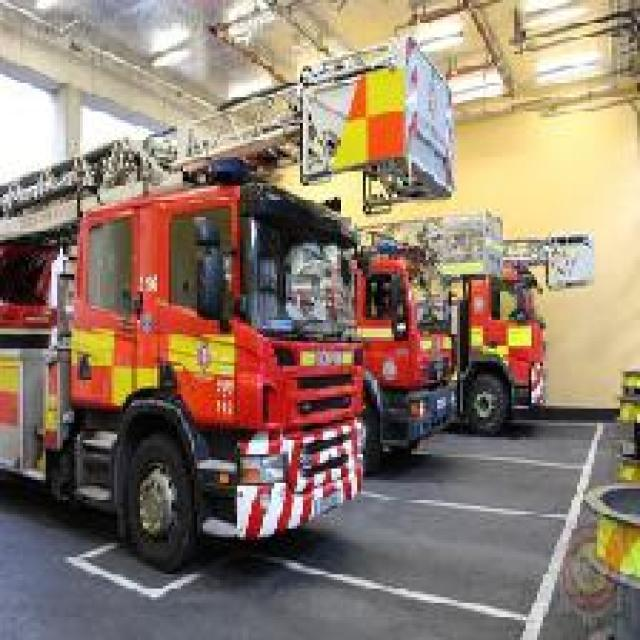emergency: (2, 170, 370, 574), (143, 237, 461, 476), (246, 256, 548, 434)
